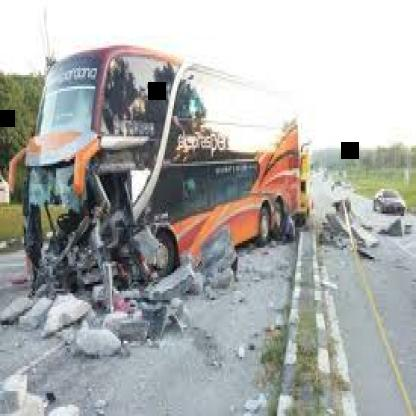accident: (28, 43, 303, 292)
